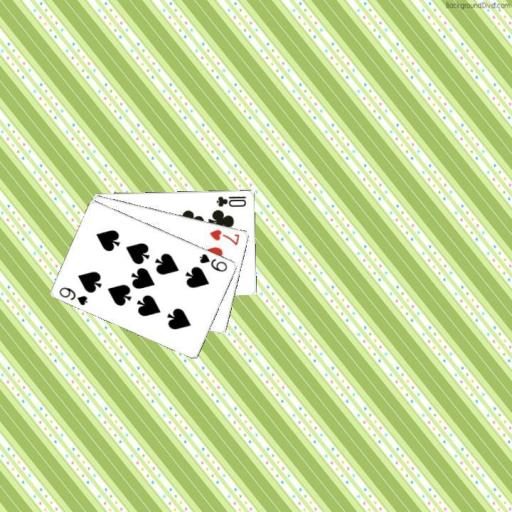10C: (214, 193, 248, 208)
7H: (206, 226, 241, 247)
9S: (196, 250, 229, 273), (56, 284, 89, 307)
